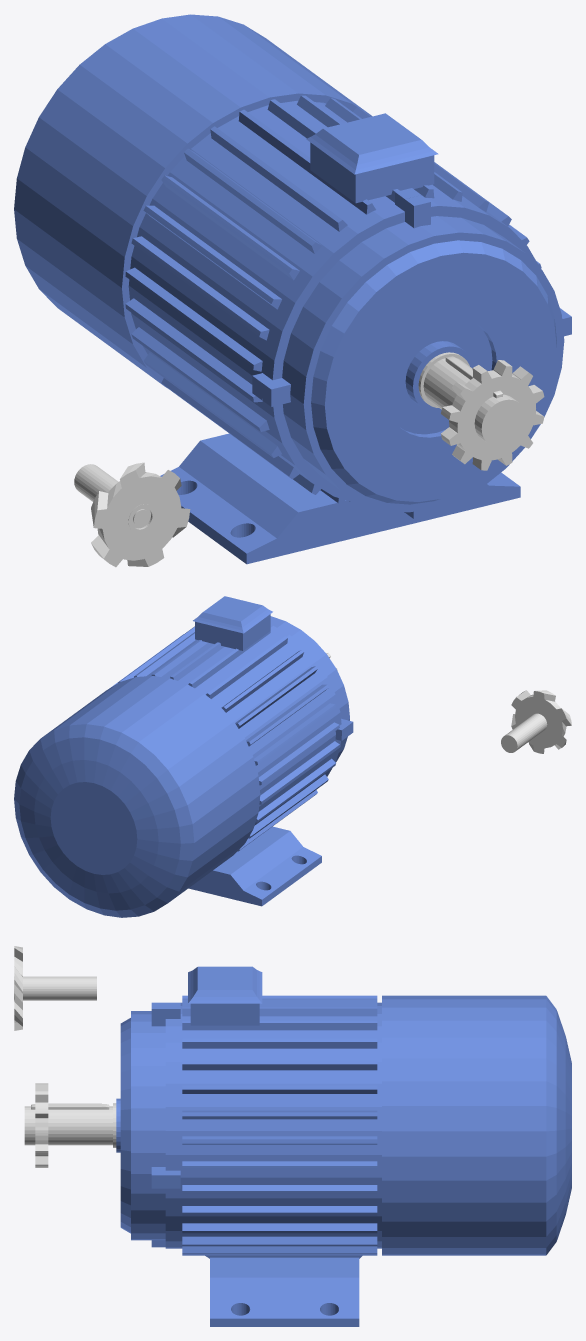
Rendered from ElectricMotorAndCraddle.fbx.
3 renders of one model, top to bottom at view 1: azimuth 30°, elevation 25°; view 2: azimuth 150°, elevation 25°; view 3: azimuth 270°, elevation 25°, orthographic. The views are drawn at different scales.
Parts seen in each view (by area): view 1: Motor, BladeHub, Sproket, Shaft, PelletizerShaft; view 2: Motor, BladeHub; view 3: Motor, PelletizerShaft, BladeHub, Sproket.
Part boxes in pixels (left/top/right/bottom): Motor: left=14, top=14, right=571, bottom=564; BladeHub: left=74, top=462, right=190, bottom=567; Sproket: left=441, top=360, right=544, bottom=470; Shaft: left=418, top=353, right=525, bottom=447; PelletizerShaft: left=421, top=352, right=526, bottom=446; Motor: left=14, top=596, right=353, bottom=917; BladeHub: left=501, top=690, right=571, bottom=753; Motor: left=116, top=966, right=571, bottom=1326; PelletizerShaft: left=24, top=1104, right=116, bottom=1147; BladeHub: left=14, top=946, right=96, bottom=1030; Sproket: left=35, top=1083, right=48, bottom=1167.
Bounding box in the file's own units: 385 × 252 × 429.
